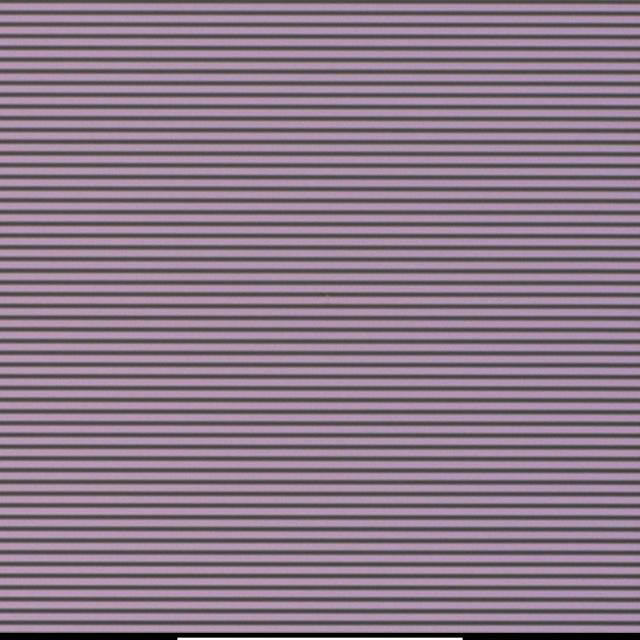03_intrusion: (324, 292, 332, 300)
